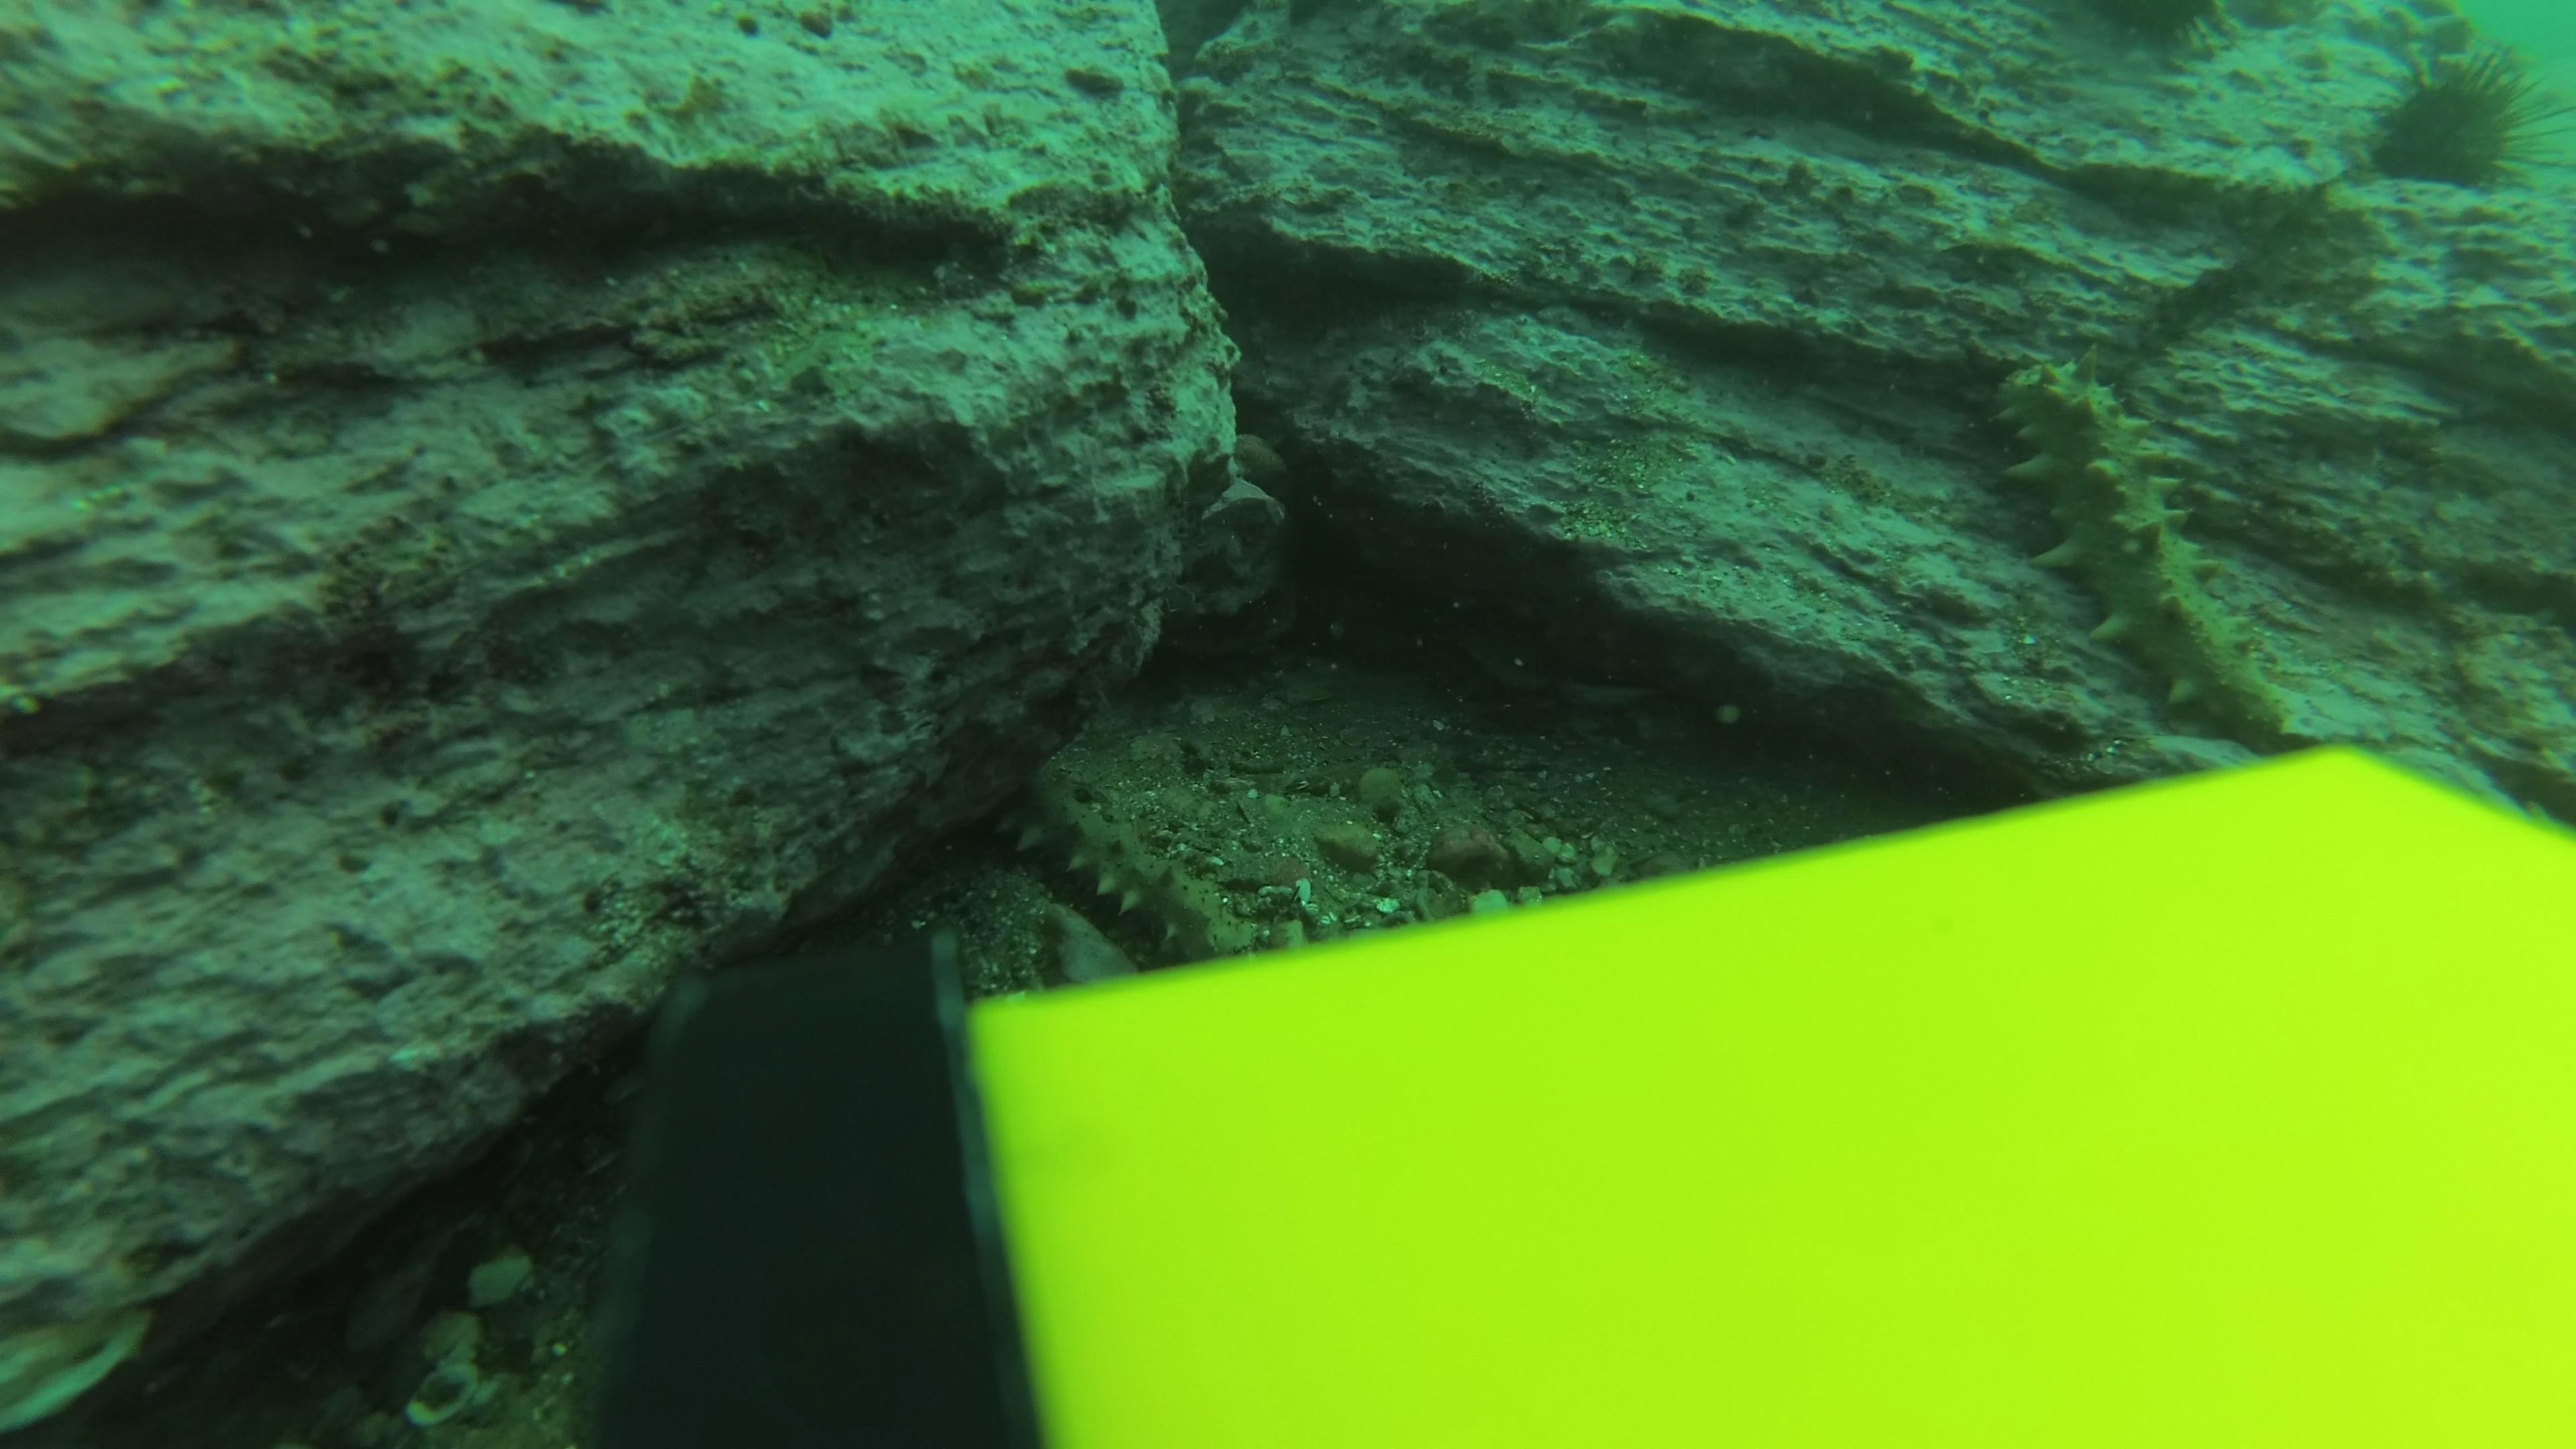echinus: (2353, 41, 2553, 200)
holothurian: (1976, 349, 2305, 755), (1005, 761, 1260, 968)
